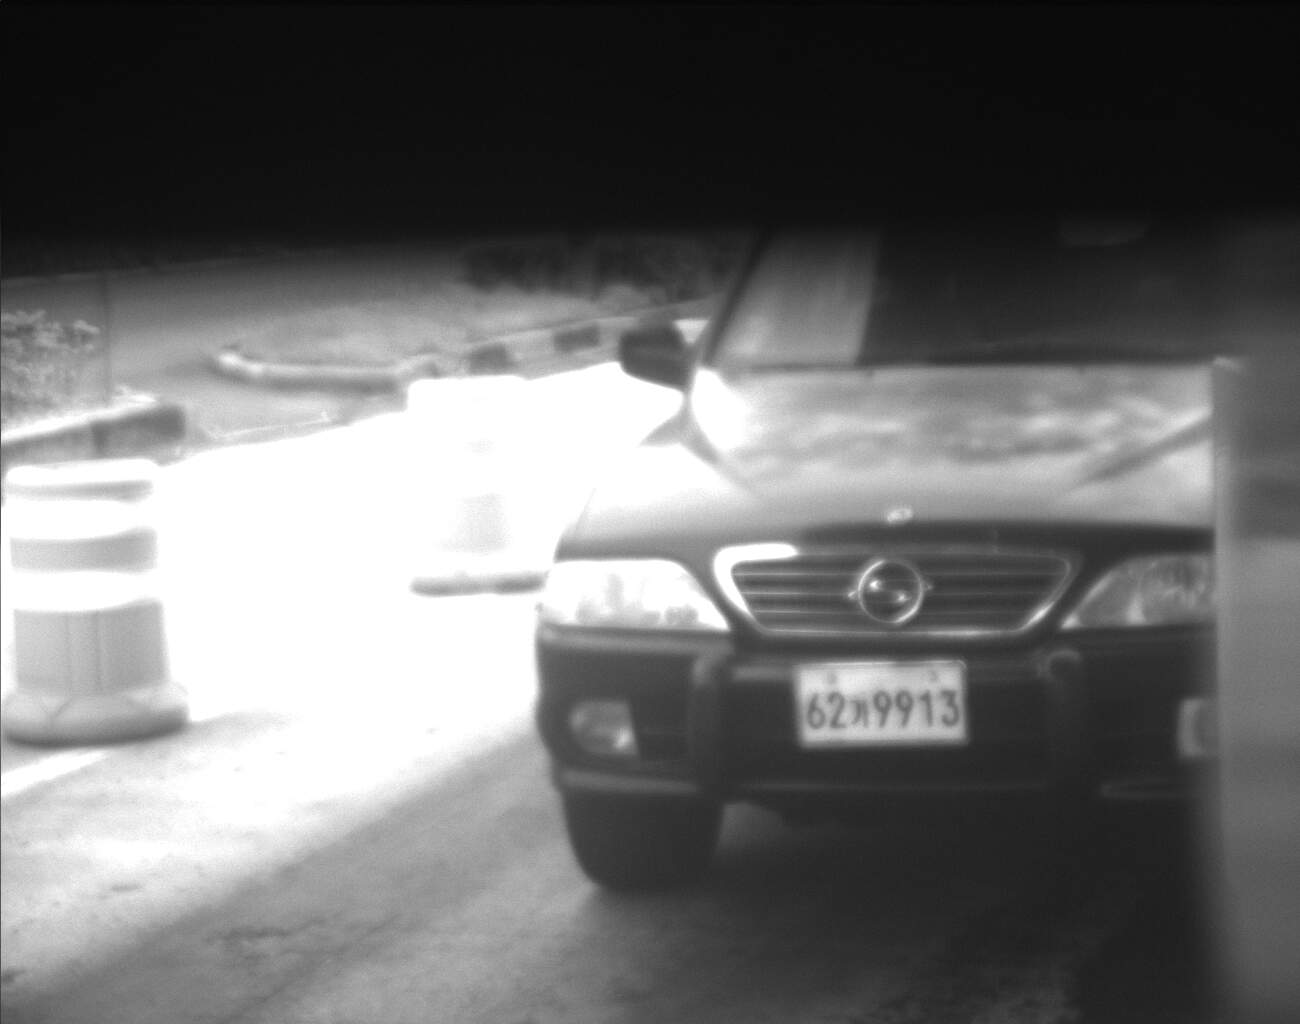car: (528, 223, 1212, 898)
plate: (788, 660, 973, 748)
